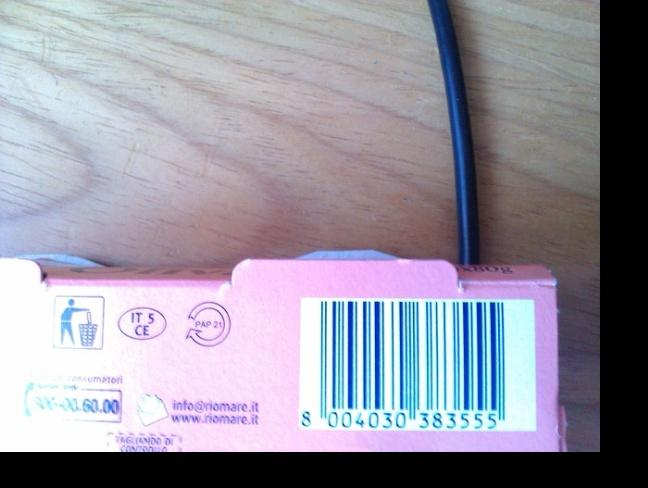Barcode: (299, 298, 536, 431)
